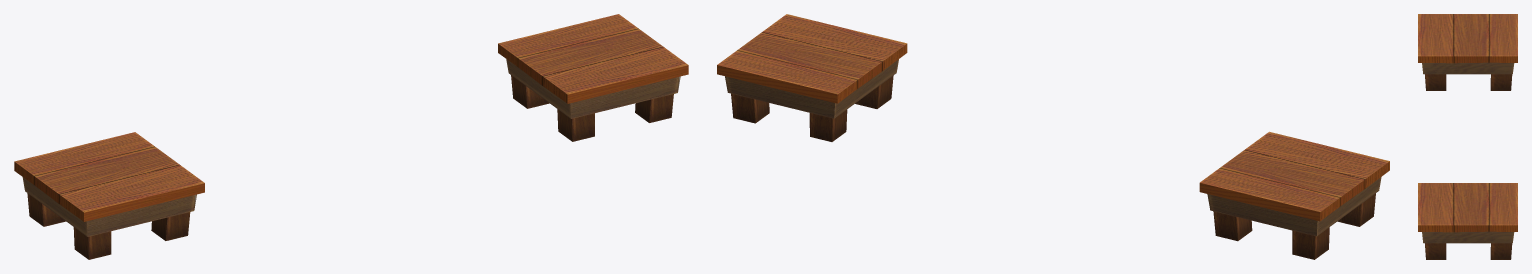
Rendered from MovingTablesB.fbx.
3 views of the same model, side by side, from view 1: azimuth 30°, elevation 25°; view 2: azimuth 150°, elevation 25°; view 3: azimuth 270°, elevation 25° (orthographic). The views are drawn at different scales.
Visible parts, largest first — view 1: Worktop (×2); view 2: Worktop (×2); view 3: Worktop (×2).
Boxes of the visible parts, x1,y1,x2,y2 form: Worktop (×2): (14,14,688,259); Worktop (×2): (717,14,1389,259); Worktop (×2): (1418,14,1517,259).
Size of the model in its own units: 6 by 0.5124 by 1.2.
